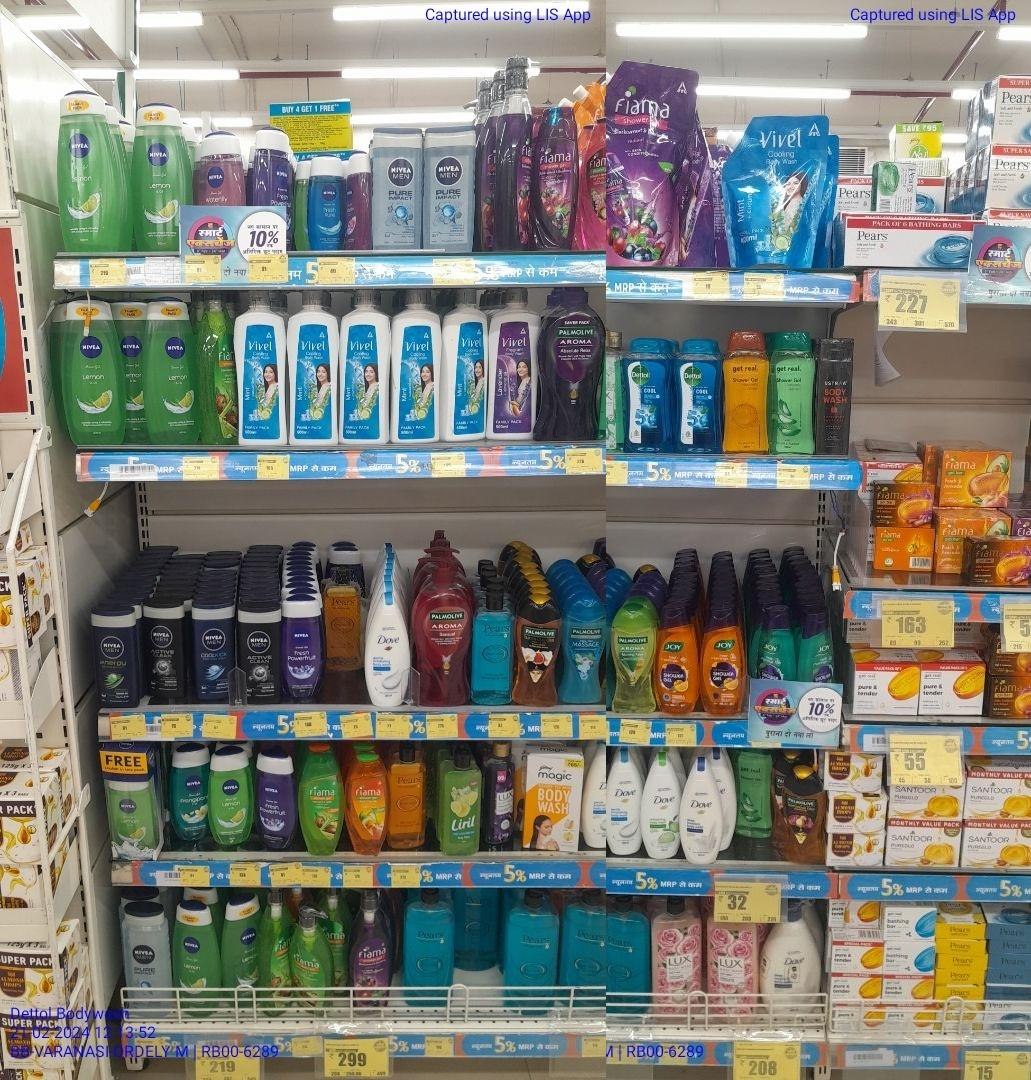Dettol_Bodywash_Cool: (621, 335, 671, 452), (671, 336, 721, 453)
Dove_Deep_Moisture_Body_Wash_250ML: (680, 756, 723, 865)
Dove_Gentle_Exfoliating_Body_Wash_250ML: (364, 591, 411, 711), (607, 747, 641, 858)
Dove_Refreshing_Body_Wash_250ML: (641, 749, 681, 860)
Fiama_Shower_Gel_Lemongrass_and_Jojoba_250ML: (297, 744, 342, 855)
Fiama_Shower_Gel_Peach_and_Avocado_250ML: (341, 753, 388, 855)
Get_Real_Shower_Gel_Moisturising_Glycerin_300ML: (720, 328, 771, 453)
Joy_Shower_Gel_Mandarin_and_Lemongrass_250ML: (700, 606, 746, 716), (656, 604, 700, 714)
Joy_Shower_Gel_Mint_and_Eucalyptus_250ML: (796, 601, 838, 682), (755, 602, 797, 679)
Liril_Lime_and_Tea_Tree_Oil_Body_Wash_250ML: (440, 745, 483, 856)
Lux_Black_Orchid_Scent_and_Juniper_Oil_Body_Wash_245ML: (481, 740, 515, 852)
Nivea_Shower_Gel_Frangipani_and_Oil_250ML: (167, 742, 205, 841)
Nivea_Shower_Gel_Fresh_Powerfruit_250ML: (252, 749, 297, 848)
Nivea_Shower_Gel_Lemon_and_Oil_250ML: (55, 88, 117, 252), (62, 294, 123, 443), (141, 294, 200, 443), (128, 101, 178, 251), (170, 899, 221, 1018), (207, 745, 254, 846), (221, 889, 256, 1010)
Palmolive_Aroma_Moments_Feel_The_Massage_Shower_Gel_250ML: (560, 592, 606, 703)
Palmolive_Aroma_Morning_Tonic_Shower_Gel_250ML: (608, 602, 654, 714)
Palmolive_Luminous_Oils_Invigorating_Macadamia_Oil_With_Peony_250ML: (780, 763, 825, 867)
Palmolive_Luminous_Oils_With_White_Orchid_Shower_Gel_250ML: (513, 592, 559, 705)
Pears_Pure_Glycerin_and_Mint_Extracts_Body_Wash_250ML: (470, 590, 514, 705)
